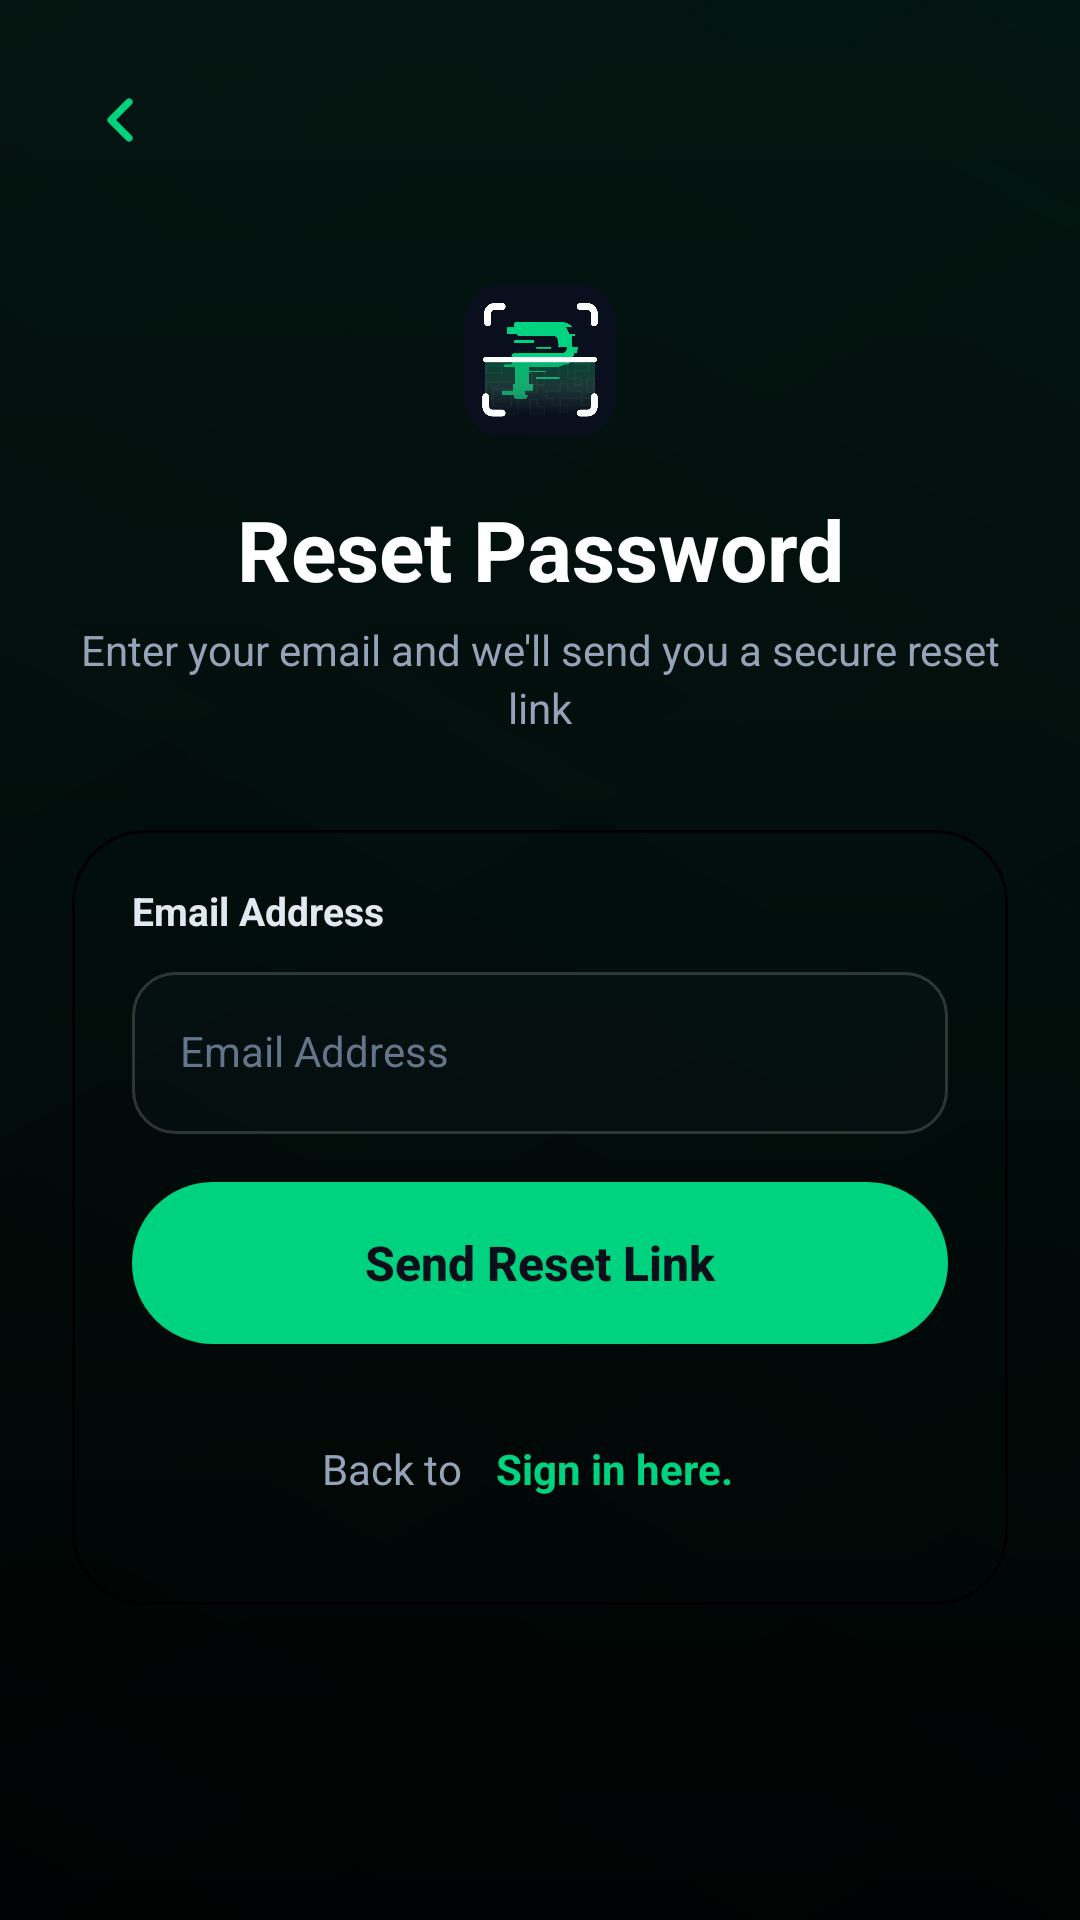

Screen size 1080px×1920px. Icon name, then its box in pixels as [x1, y1, x2, y2]:
arrow back: [107, 98, 133, 142]
